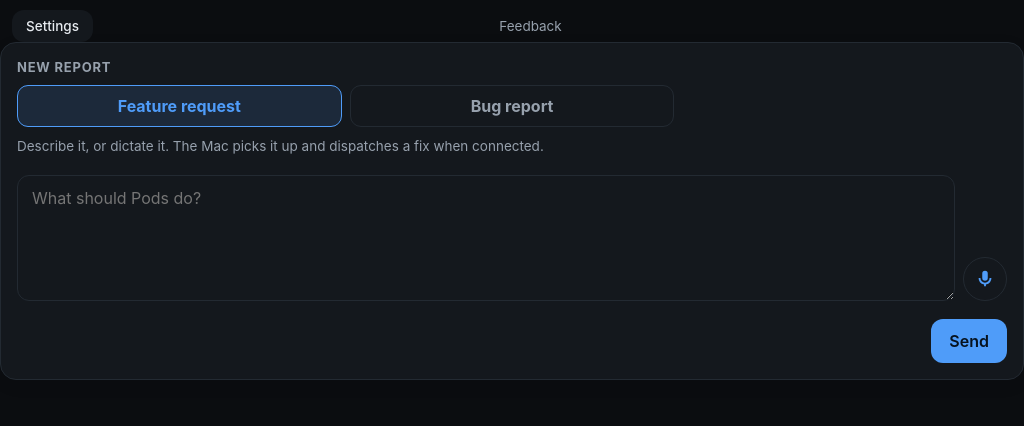
switches the report type and sends a trimmed report
The image size is (1024, 426).
Expected: the button "Send" is disabled, [931,319,1007,363]
Click the button "Bug report" at (512, 106), box [350,85,674,127]
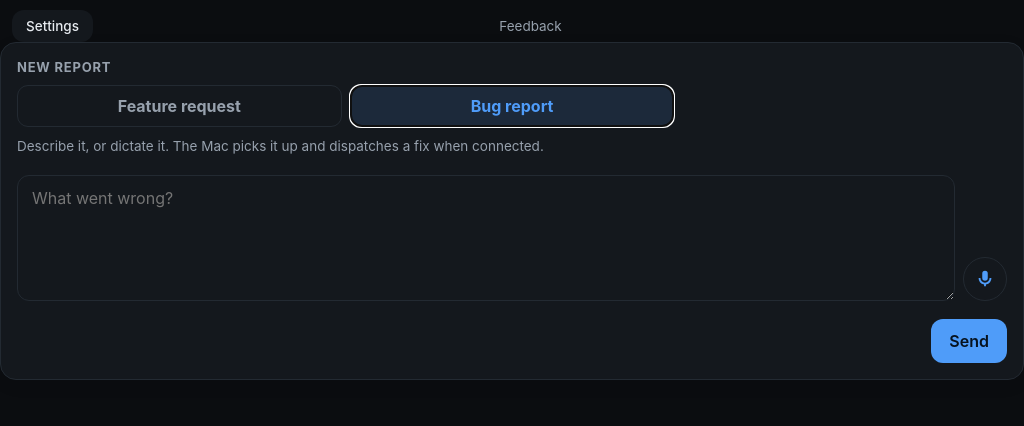
Expected: the text box with placeholder "What went wrong?" is shown
Type "crash on launch" into the text box labelled "Describe it" at (486, 238), box [17,175,955,301]
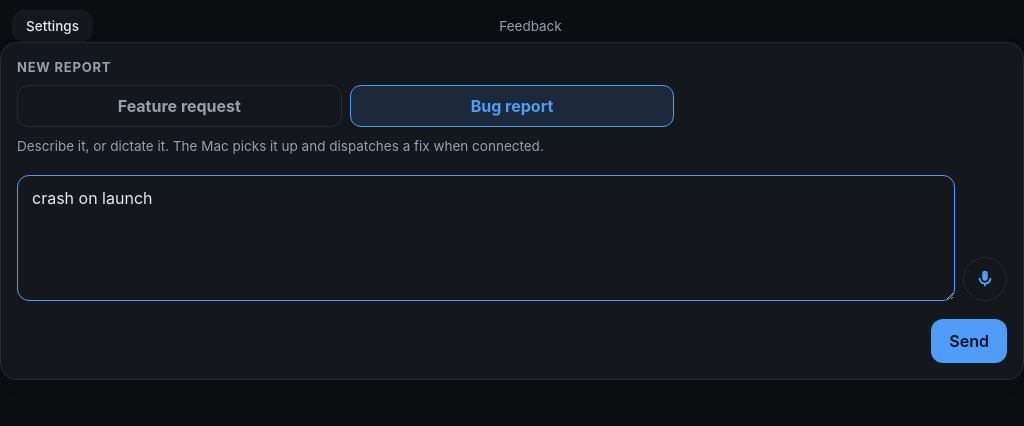
Click the button "Send" at (969, 341), box [931,319,1007,363]
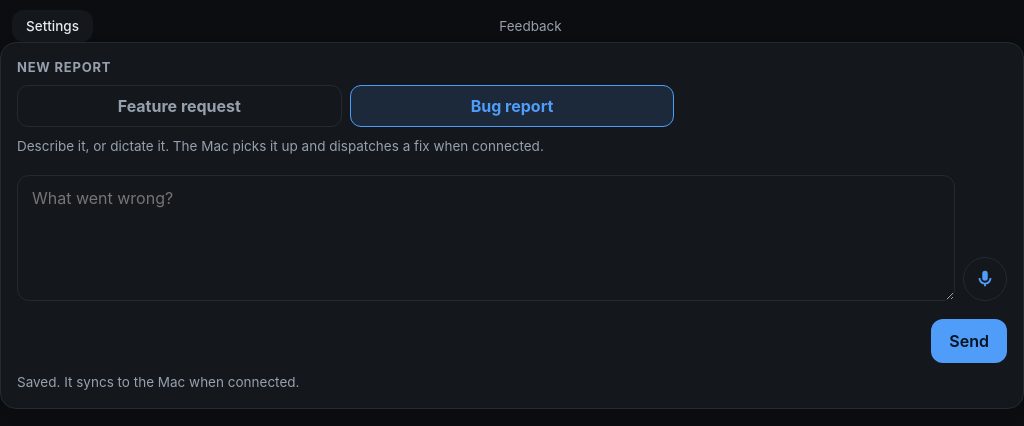
Expected: the text "Saved. It syncs to the Mac when connected." is shown, [17,374,299,390]
Expected: the text box labelled "Describe it" is empty, [17,175,955,301]
